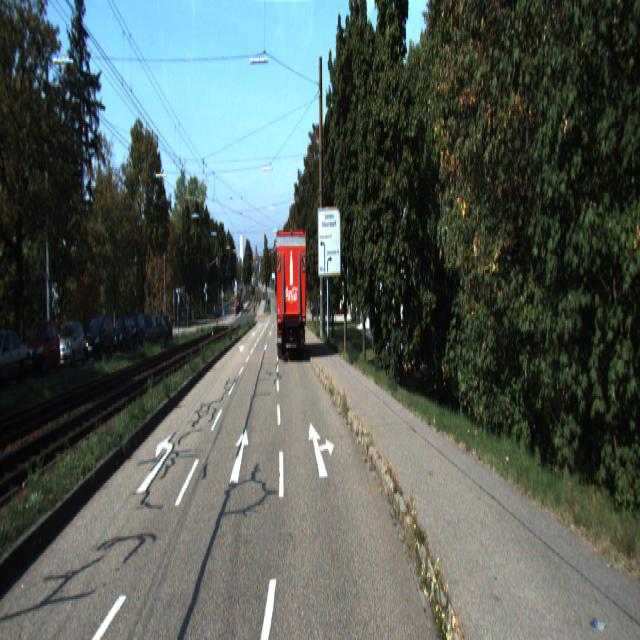Car: (276, 225, 310, 362), (25, 320, 64, 380), (0, 329, 31, 390), (57, 320, 88, 368), (87, 319, 118, 365), (110, 317, 133, 354)
